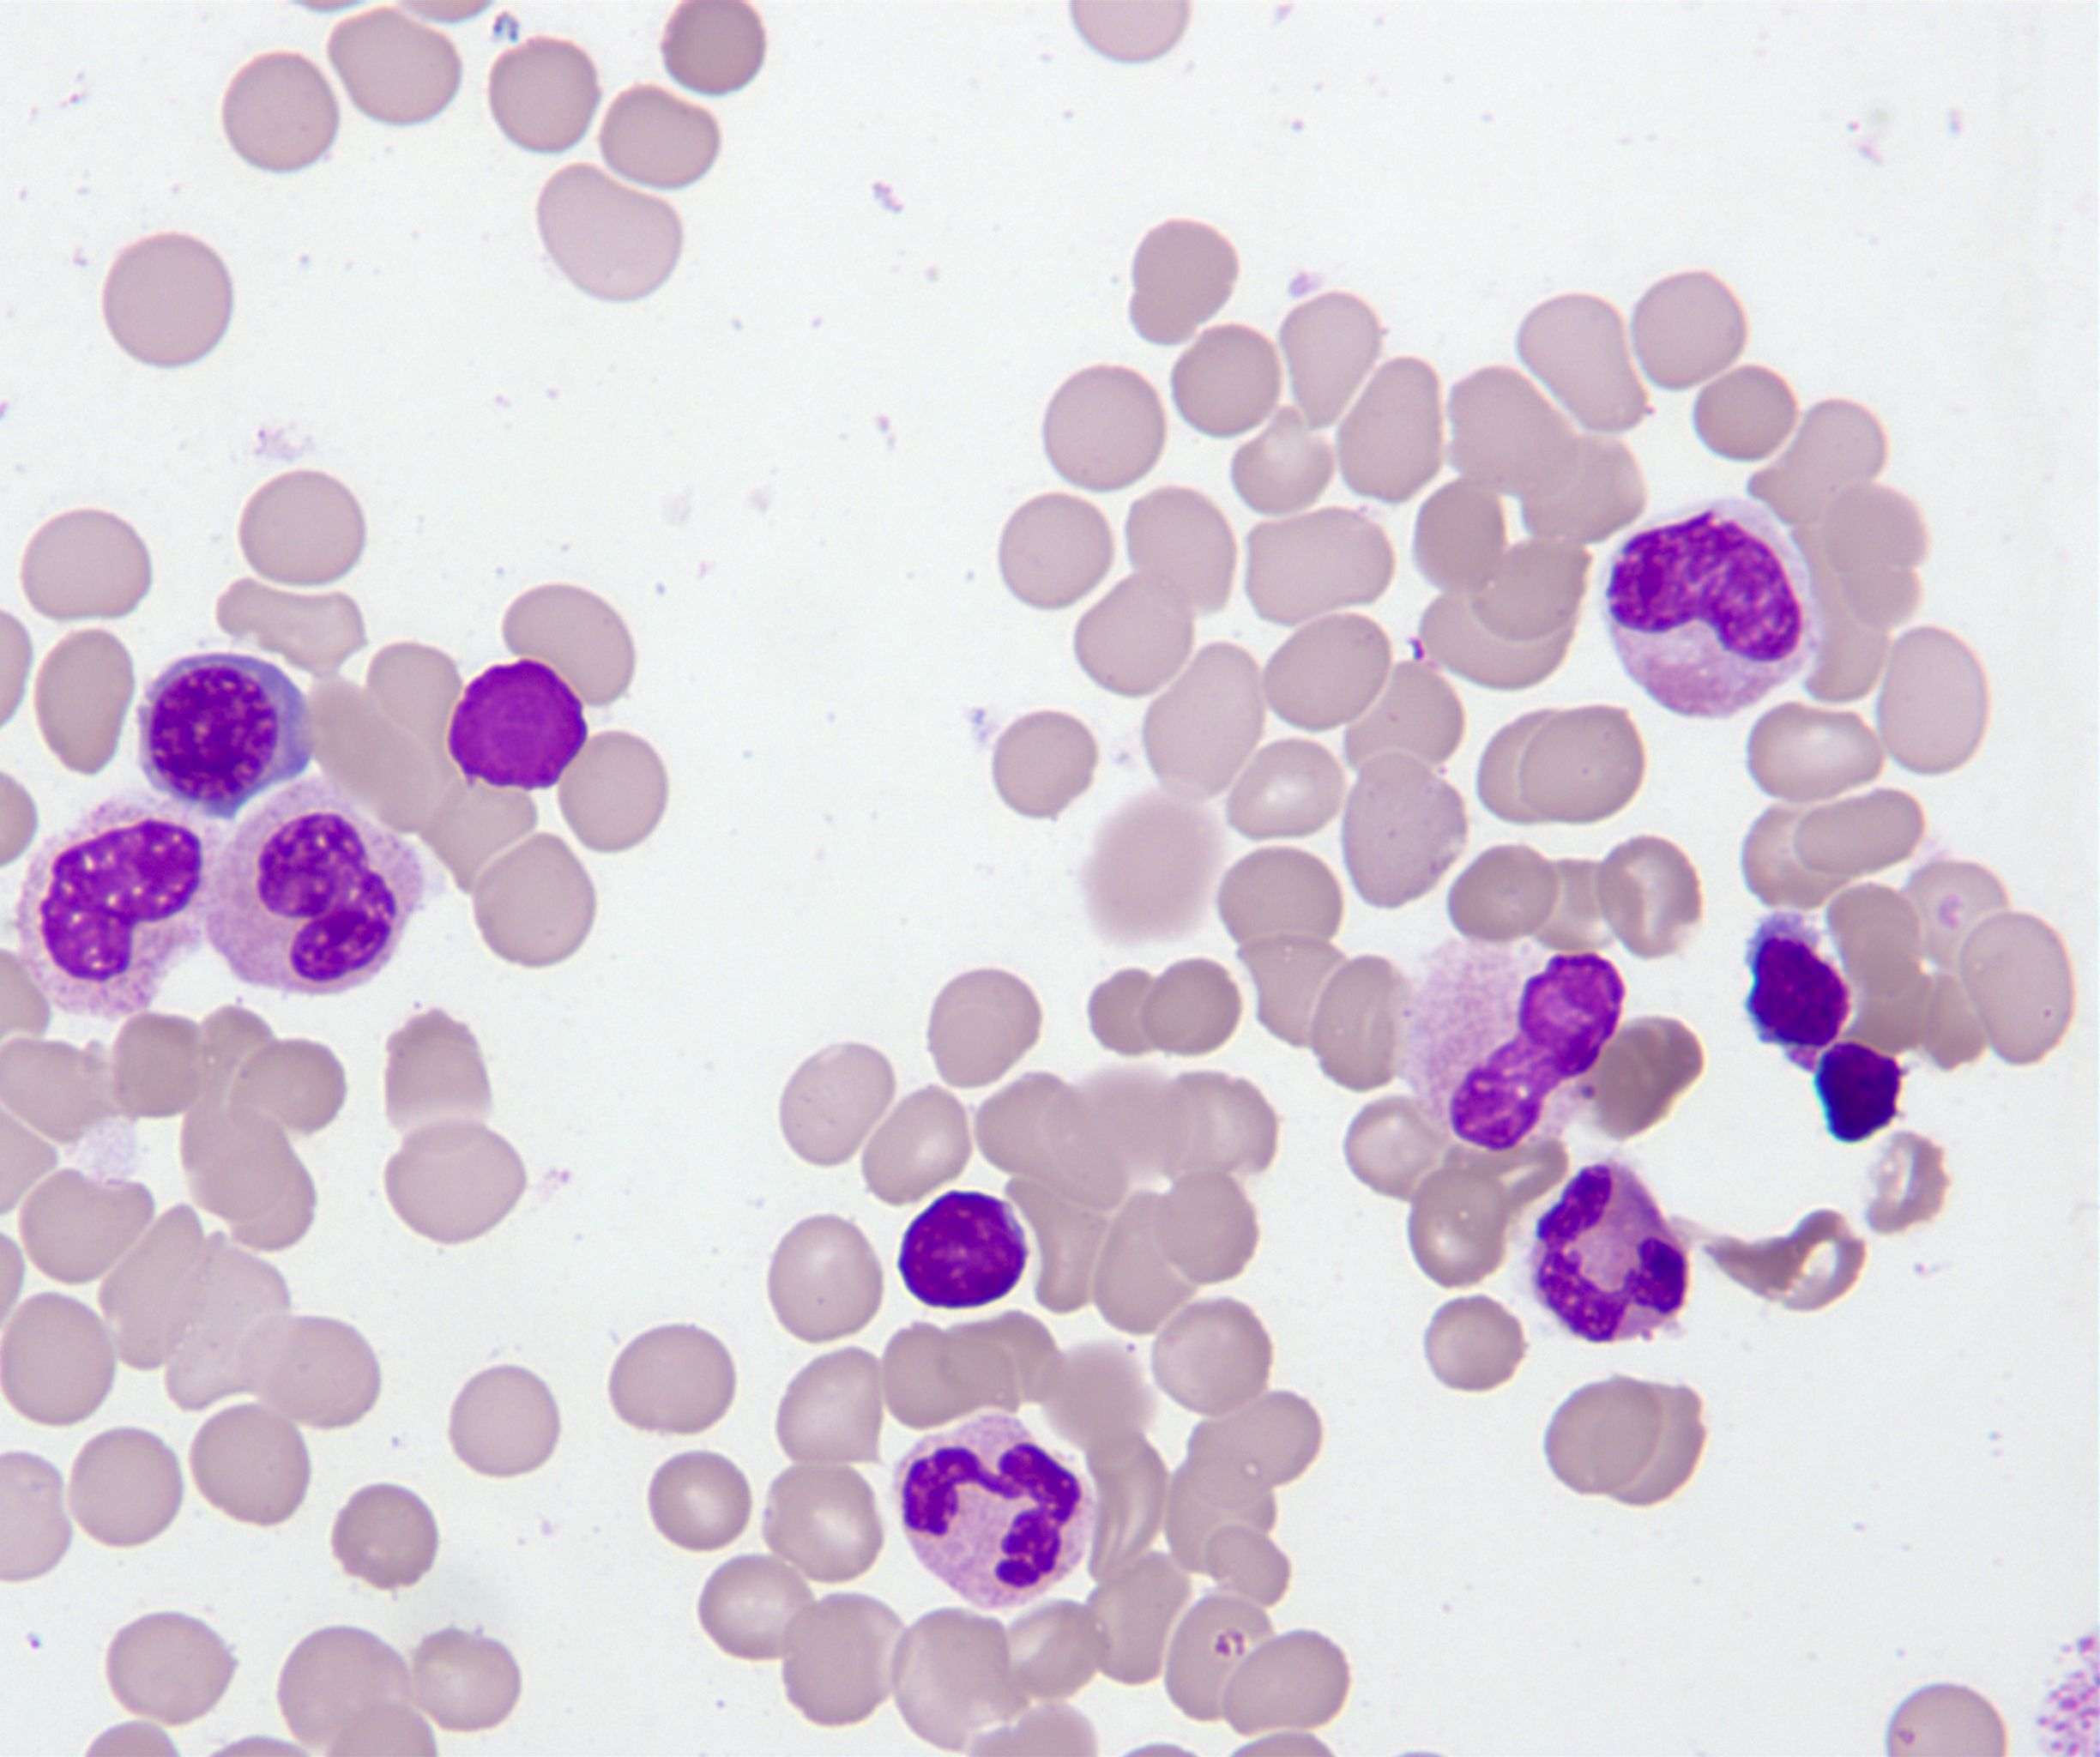22: (138, 653, 312, 820)
32: (1746, 913, 1854, 1073), (897, 1190, 1029, 1309), (1816, 1043, 1901, 1143)
4: (1606, 496, 1817, 719)
5: (1387, 937, 1624, 1152), (206, 776, 422, 995), (14, 789, 218, 1017)
6: (895, 1417, 1092, 1609), (1523, 1162, 1688, 1343)
x: (448, 660, 584, 789)
